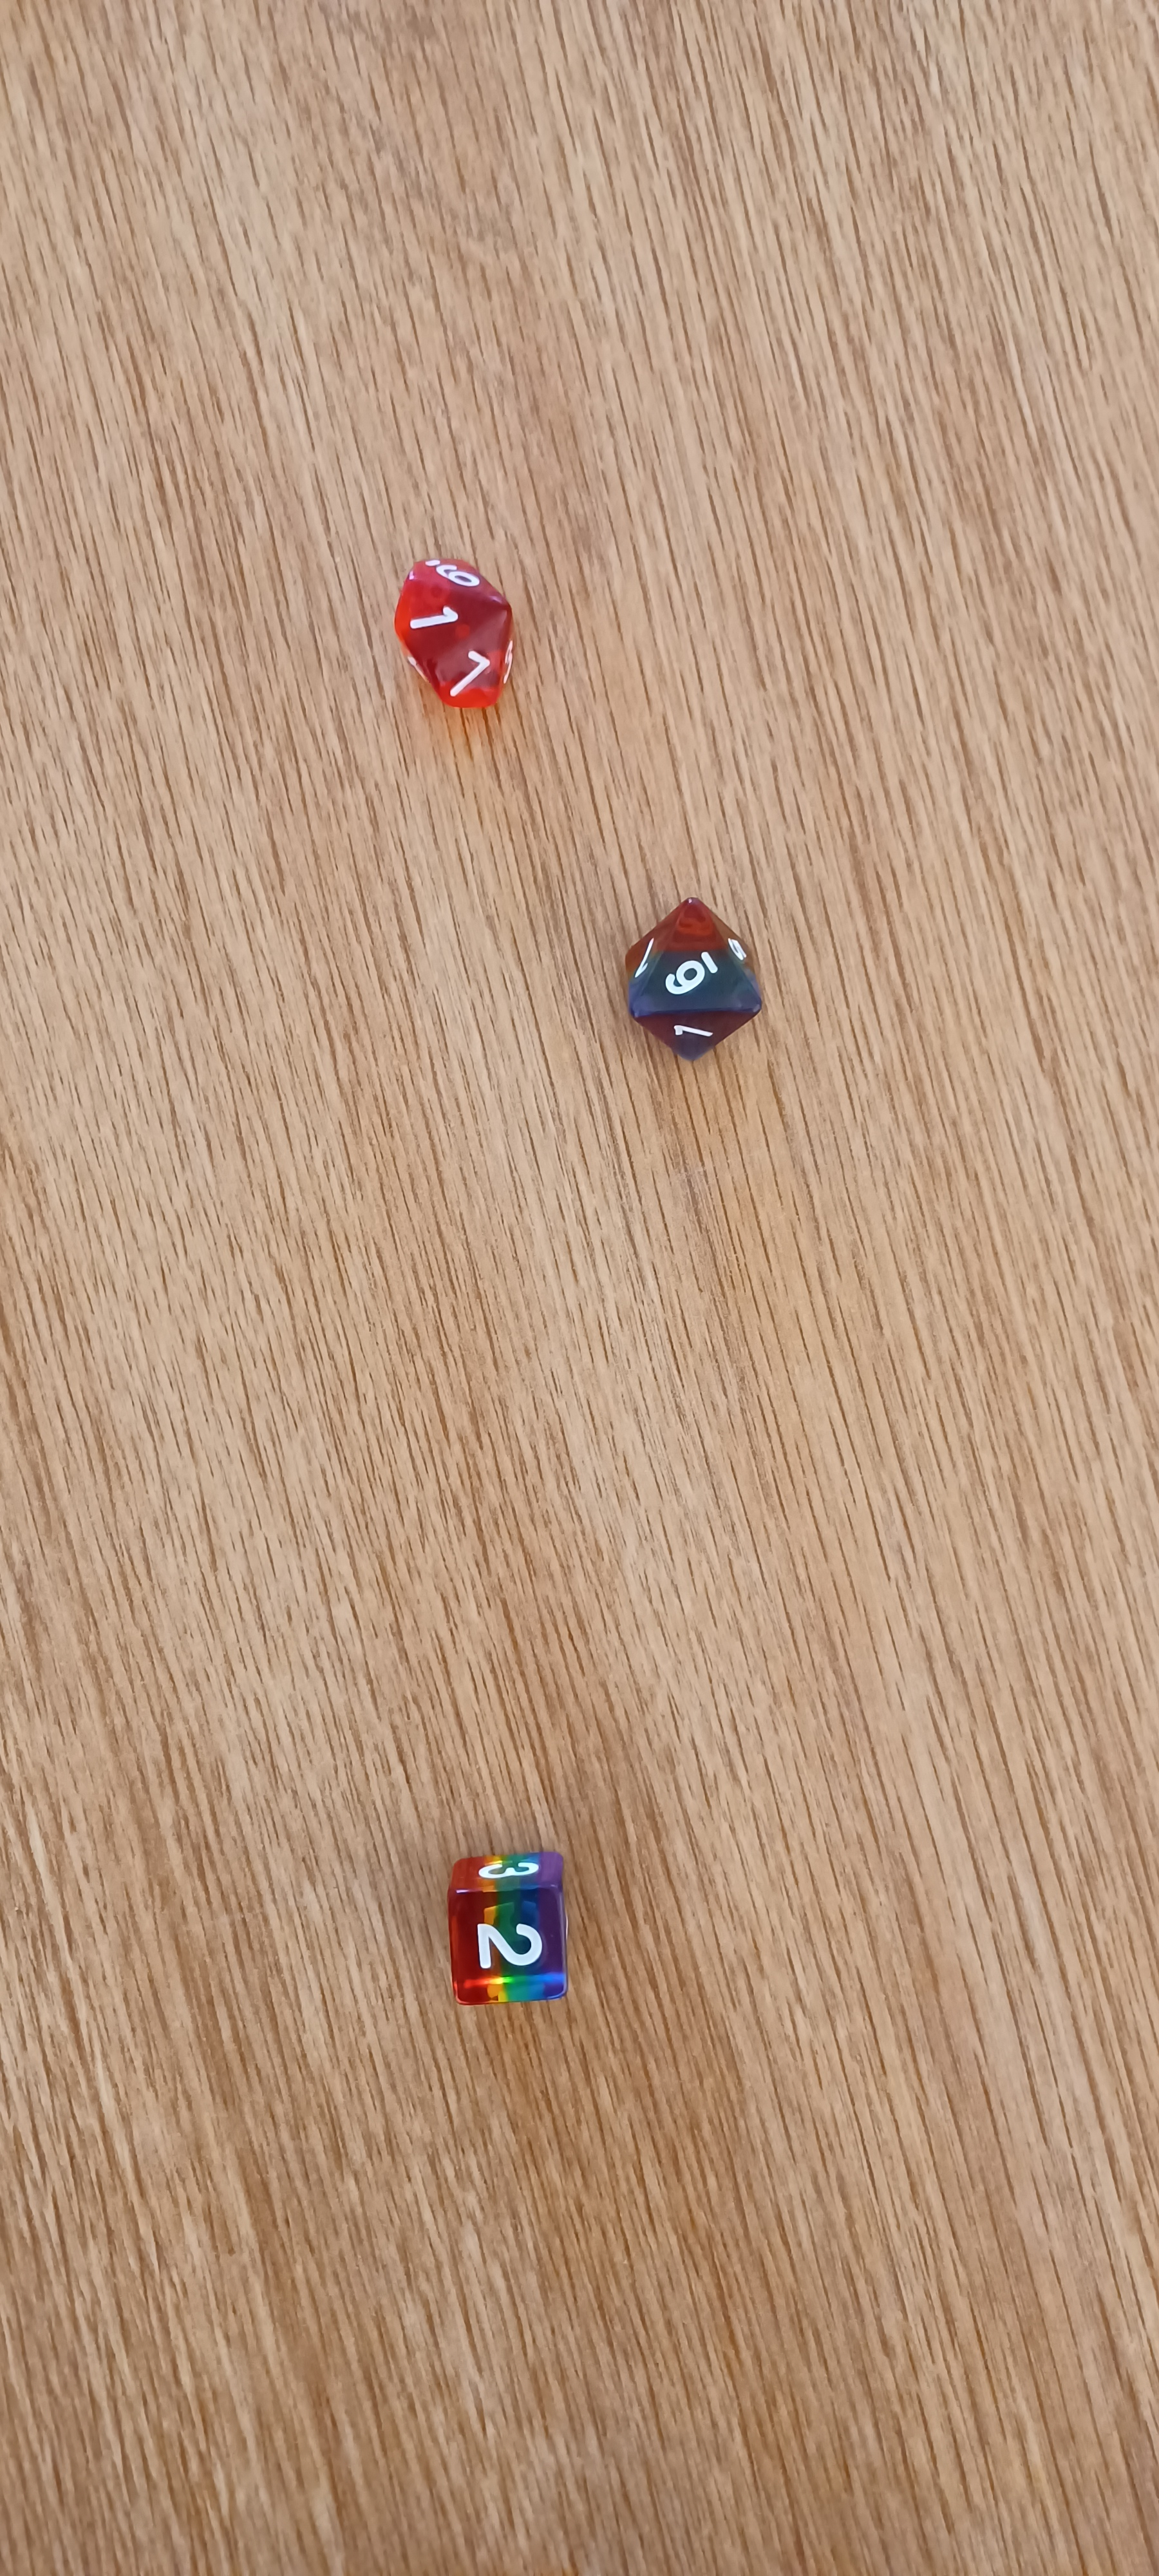one: (361, 517, 553, 744)
six: (558, 853, 819, 1102)
two: (387, 1810, 648, 2052)
